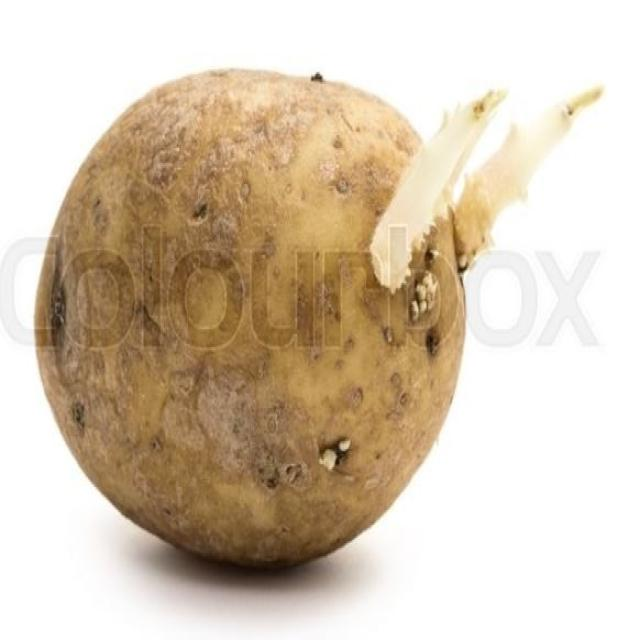potato: (33, 71, 465, 564)
